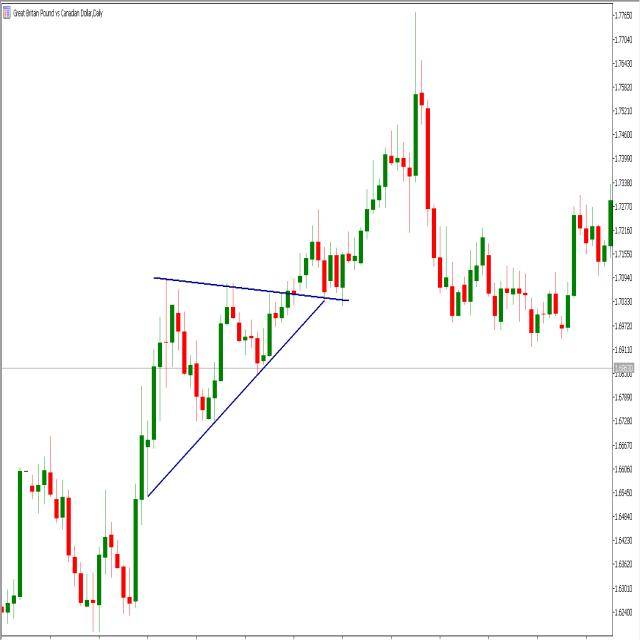Ascending-Triangle: (119, 282, 318, 515)
